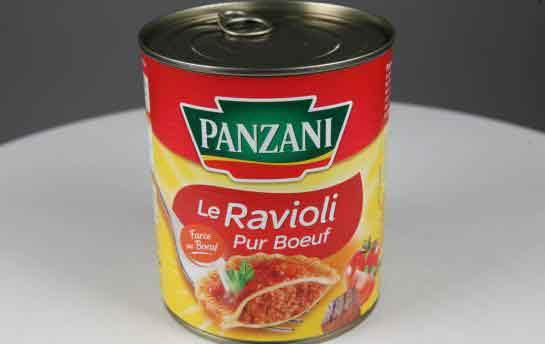metal: (139, 1, 395, 342)
